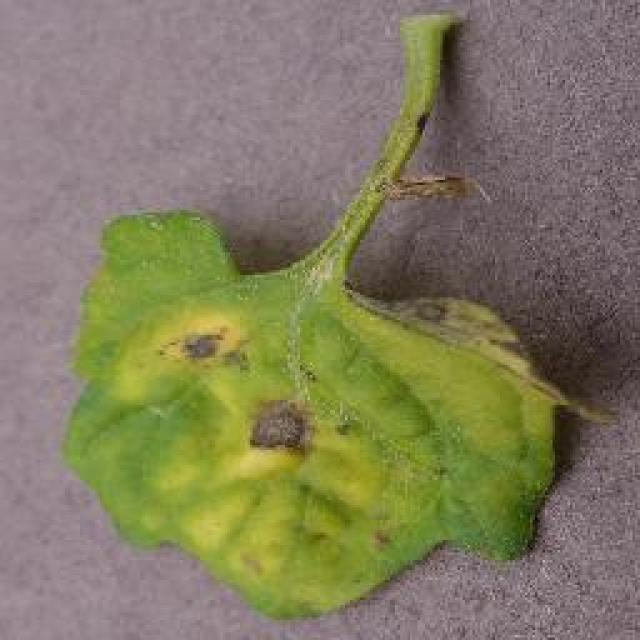Tomato___Septoria_leaf_spot: (68, 12, 605, 615)
